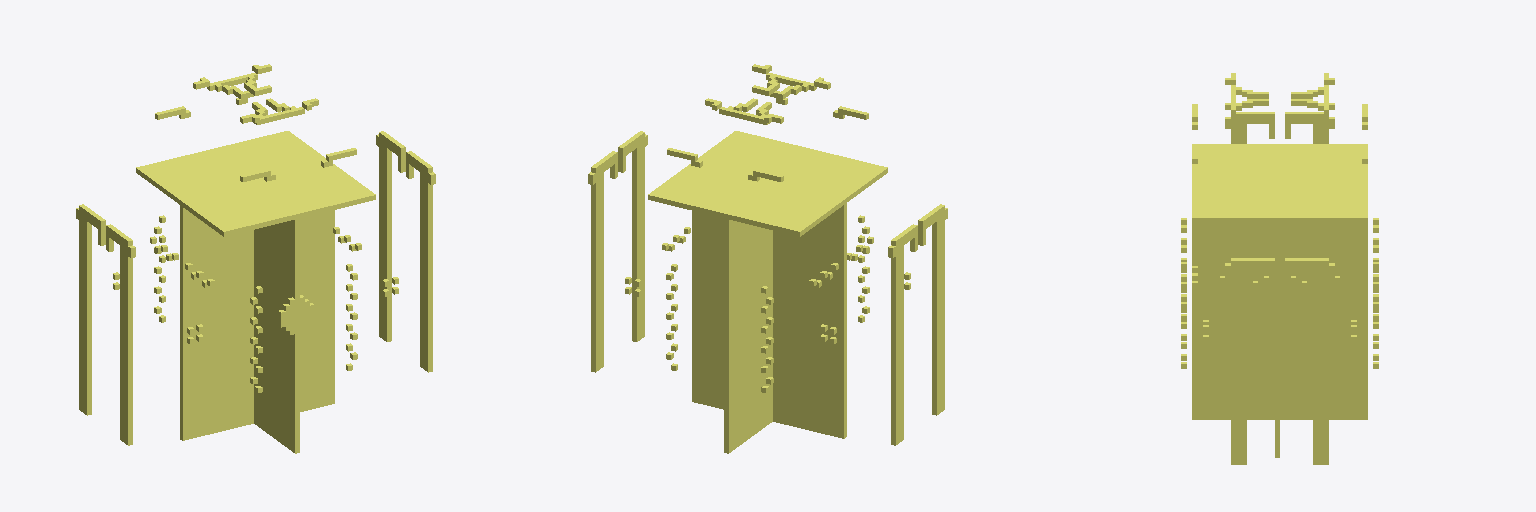
3 views of the same model, side by side, from view 1: azimuth 30°, elevation 25°; view 2: azimuth 150°, elevation 25°; view 3: azimuth 270°, elevation 25° (orthographic).
Visible parts, largest first — view 1: 淡黄光; view 2: 淡黄光; view 3: 淡黄光.
Part boxes in pixels (x1,y1,x2,y2): 淡黄光: (76,64,435,453); 淡黄光: (588,64,947,453); 淡黄光: (1181,73,1378,464).
Size of the model in its own units: 64 by 66 by 36.
Materials: 1 (1 with a texture image).